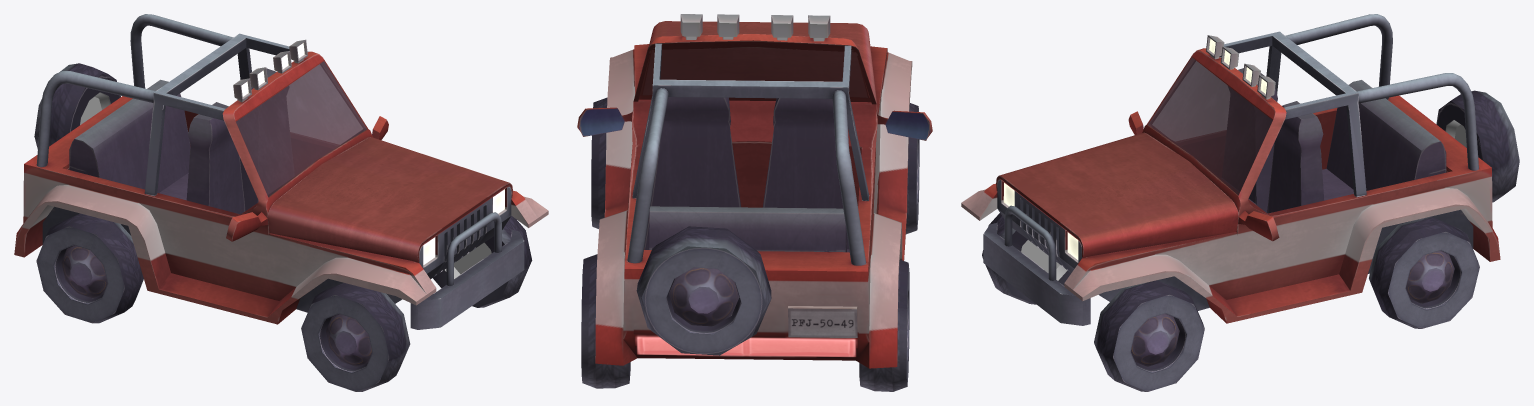
The model's file is vehicle.glb.
The picture shows the model from 3 angles, left to right: view 1: azimuth 30°, elevation 25°; view 2: azimuth 150°, elevation 25°; view 3: azimuth 270°, elevation 25°; orthographic projection. The views are drawn at different scales.
Visible parts, largest first — view 1: Car_5, Wheels_7, Car_Door_6; view 2: Car_5, Wheels_7, Car_Door_6; view 3: Car_5, Wheels_7, Car_Door_6.
Part boxes in pixels (box(x1,y1,x2,y2)): Car_5: box(14, 14, 548, 329); Wheels_7: box(36, 213, 532, 391); Car_Door_6: box(267, 137, 512, 261); Car_5: box(577, 14, 932, 368); Wheels_7: box(581, 97, 919, 391); Car_Door_6: box(632, 21, 878, 114); Car_5: box(961, 14, 1519, 325); Wheels_7: box(982, 213, 1479, 391); Car_Door_6: box(996, 132, 1238, 257).
Bounding box in the file's own units: 2.42 × 1.48 × 3.
Materials: 3 (3 with a texture image).
